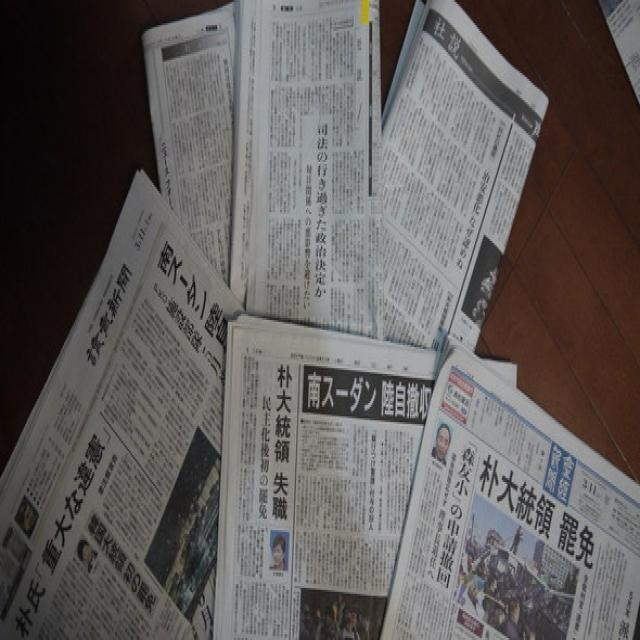newspaper: (224, 329, 640, 640), (0, 167, 231, 640), (140, 0, 378, 324), (385, 1, 548, 353)
